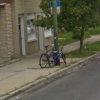Bicycle: (35, 39, 71, 72)
